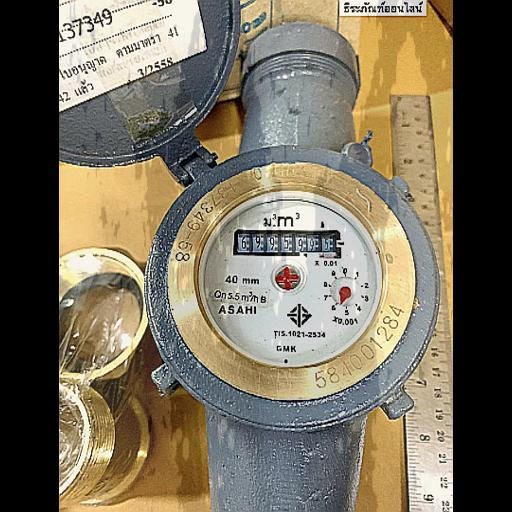5: (282, 234, 292, 253), (322, 234, 332, 252)
6: (239, 234, 249, 252)
9: (254, 234, 264, 253), (268, 234, 278, 253), (297, 234, 306, 252), (309, 235, 318, 252)
border_water_meter_number: (235, 230, 342, 258)
